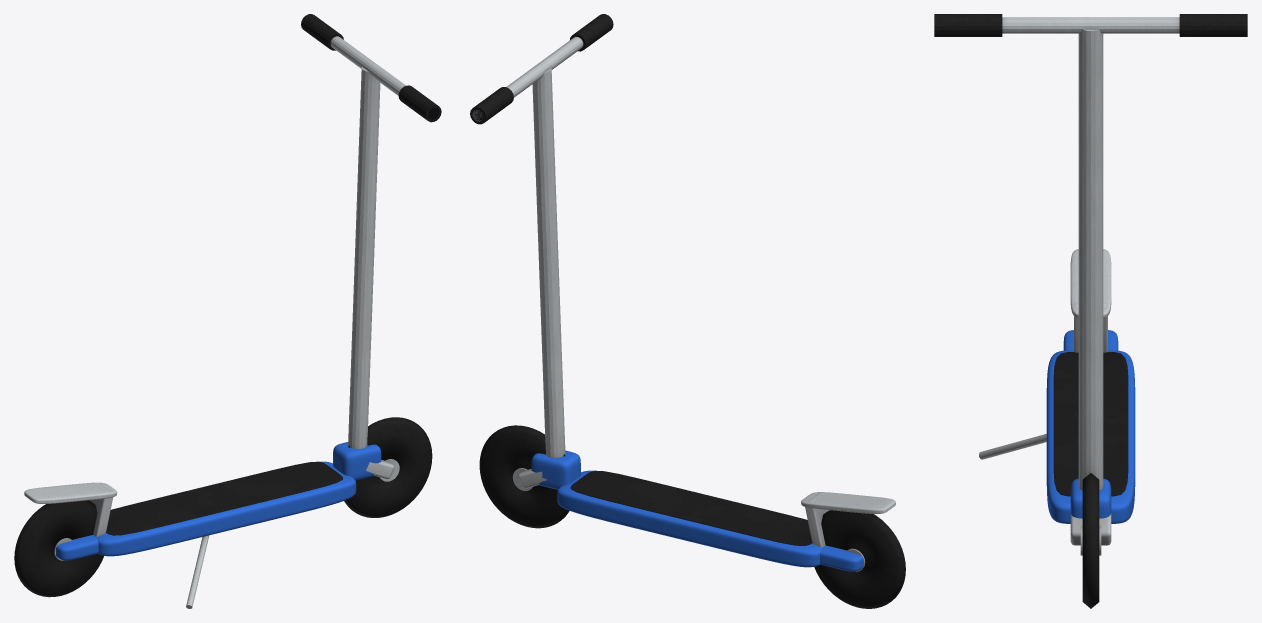
The model's file is blue.glb.
3 renders of one model, left to right at view 1: azimuth 30°, elevation 25°; view 2: azimuth 150°, elevation 25°; view 3: azimuth 270°, elevation 25°, orthographic. The views are drawn at different scales.
Visible parts, largest first — view 1: aluminium, pu_wheel, paint_primary, griptape, grip_rubber; view 2: aluminium, pu_wheel, paint_primary, griptape, grip_rubber; view 3: aluminium, griptape, paint_primary, grip_rubber, pu_wheel.
Part boxes in pixels (x1,y1,x2,y2): aluminium: (24, 36, 405, 608); pu_wheel: (14, 417, 432, 597); paint_primary: (56, 442, 381, 560); griptape: (105, 461, 342, 535); grip_rubber: (301, 14, 441, 122); aluminium: (472, 36, 895, 571); pu_wheel: (479, 425, 905, 608); paint_primary: (531, 450, 863, 571); griptape: (570, 470, 812, 545); grip_rubber: (470, 14, 613, 124); aluminium: (979, 17, 1179, 555); griptape: (1053, 352, 1128, 496); paint_primary: (1046, 330, 1135, 523); grip_rubber: (934, 14, 1247, 36); pu_wheel: (1082, 473, 1099, 608).
Bounding box in the file's own units: 0.89 × 0.9423 × 0.46.
Materials: 5 (4 with a texture image).
